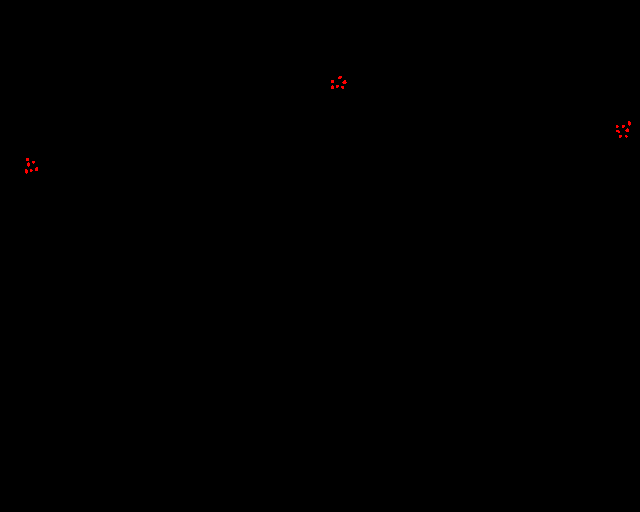Target: (342, 80, 347, 84), (625, 128, 629, 132), (628, 121, 631, 126), (27, 162, 30, 167), (25, 169, 28, 174), (338, 76, 342, 79), (331, 85, 334, 89), (616, 130, 620, 133), (35, 167, 38, 171), (331, 80, 334, 83), (336, 85, 339, 88), (341, 86, 344, 89), (616, 125, 619, 128), (622, 125, 625, 128), (619, 135, 622, 138), (625, 135, 628, 138), (26, 158, 29, 161), (32, 161, 35, 164), (30, 169, 33, 172)
